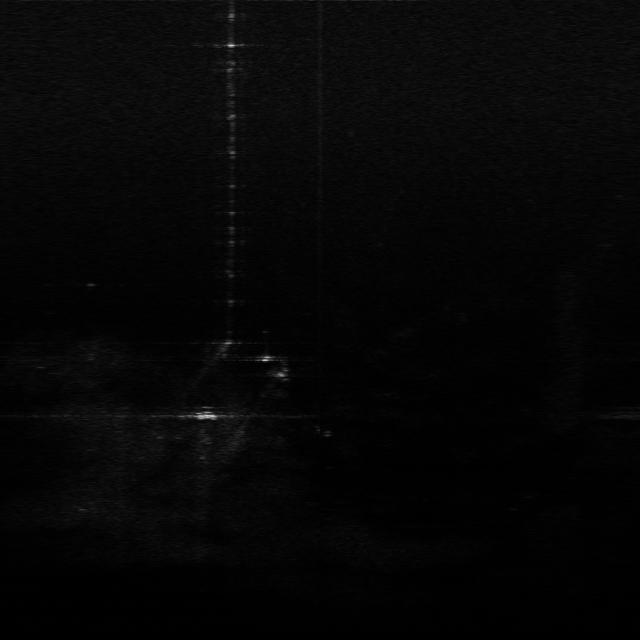rov: (186, 403, 224, 425)
